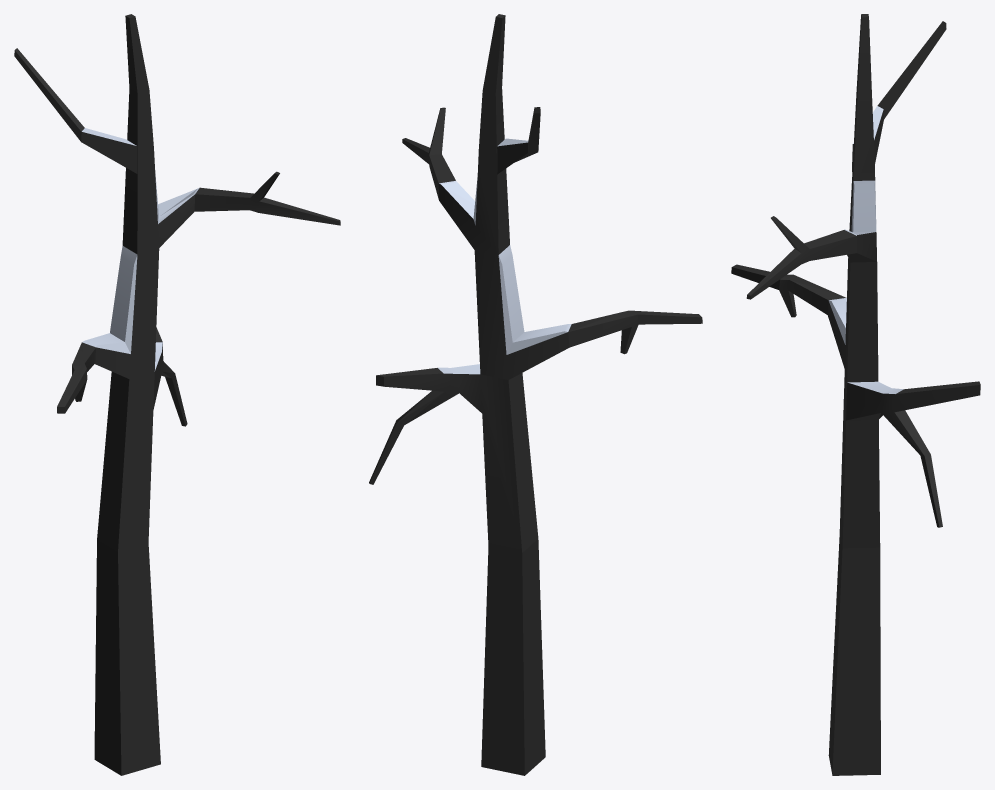
File: tree_snow_1.fbx
The picture shows the model from 3 angles, left to right: view 1: azimuth 30°, elevation 25°; view 2: azimuth 150°, elevation 25°; view 3: azimuth 270°, elevation 25°; orthographic projection.
Visible parts, largest first — view 1: TREE.001, TREE.006, TREE.005, TREE.002, TREE.004, TREE.003; view 2: TREE.006, TREE.001, TREE.005, TREE.003, TREE.002, TREE.004; view 3: TREE.001, TREE.005, TREE.006, TREE.002, TREE.003, TREE.004.
Part boxes in pixels (box(x1,y1,x2,y2)): TREE.001: box(94, 539, 160, 775); TREE.006: box(82, 14, 199, 378); TREE.005: box(97, 327, 187, 551); TREE.002: box(194, 171, 340, 225); TREE.004: box(14, 48, 137, 173); TREE.003: box(57, 342, 95, 413); TREE.006: box(438, 14, 571, 379); TREE.001: box(481, 539, 545, 775); TREE.005: box(369, 364, 538, 552); TREE.003: box(568, 310, 702, 354); TREE.002: box(402, 107, 455, 199); TREE.004: box(497, 107, 540, 174); TREE.001: box(828, 533, 880, 775); TREE.005: box(839, 370, 980, 548); TREE.006: box(827, 14, 878, 382); TREE.002: box(746, 216, 856, 299); TREE.003: box(731, 264, 846, 317); TREE.004: box(852, 21, 946, 171).
Bounding box in the file's own units: 9.3 × 22.66 × 6.8.
